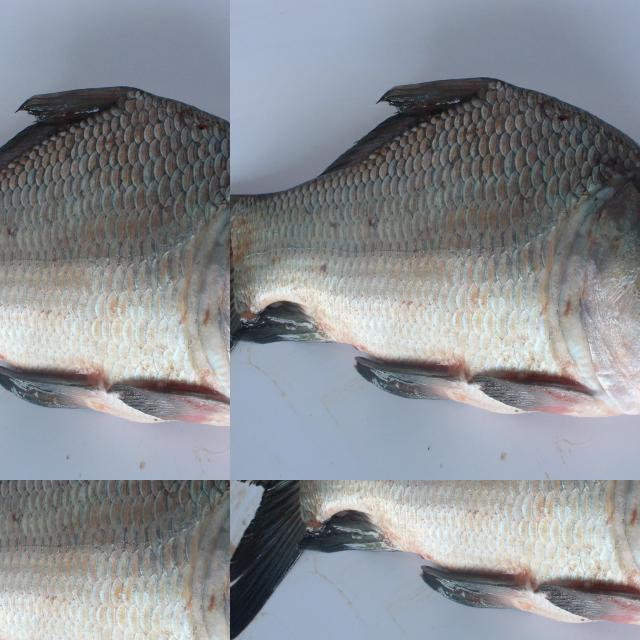fish: (230, 480, 640, 640)
